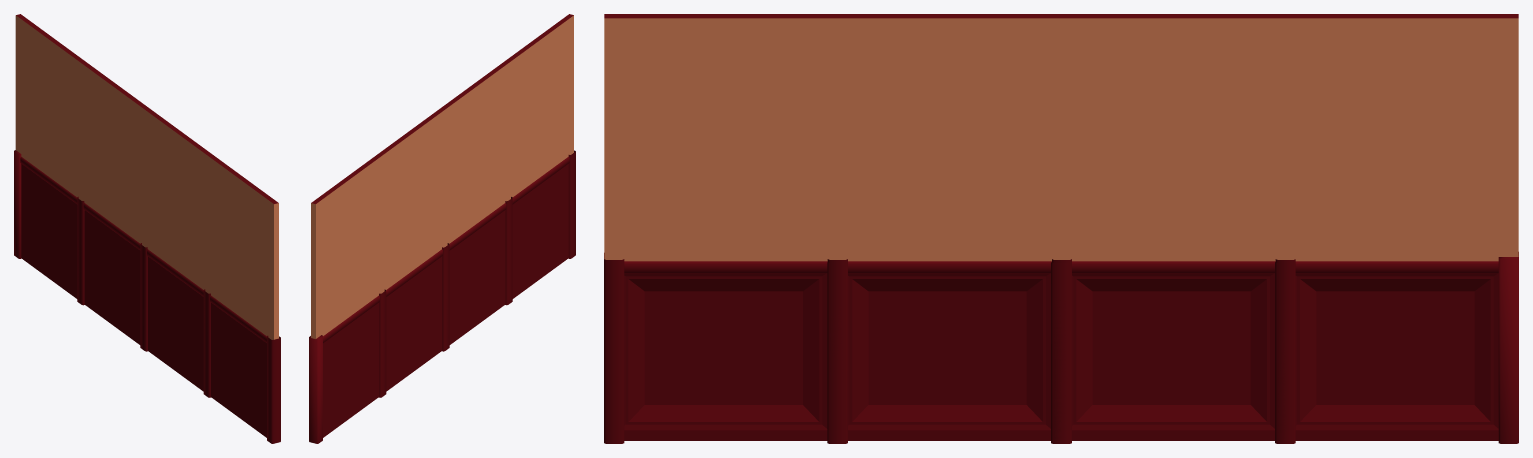
Rendered from wall.fbx.
3 views of the same model, side by side, from view 1: azimuth 30°, elevation 25°; view 2: azimuth 150°, elevation 25°; view 3: azimuth 270°, elevation 25° (orthographic). The views are drawn at different scales.
Visible parts, largest first — view 1: SM_wall_01; view 2: SM_wall_01; view 3: SM_wall_01.
Boxes of the visible parts, x1,y1,x2,y2 form: SM_wall_01: (14,14,280,443); SM_wall_01: (309,14,575,443); SM_wall_01: (604,14,1518,443).
Bounding box in the file's own units: 10.39 × 252 × 494.
